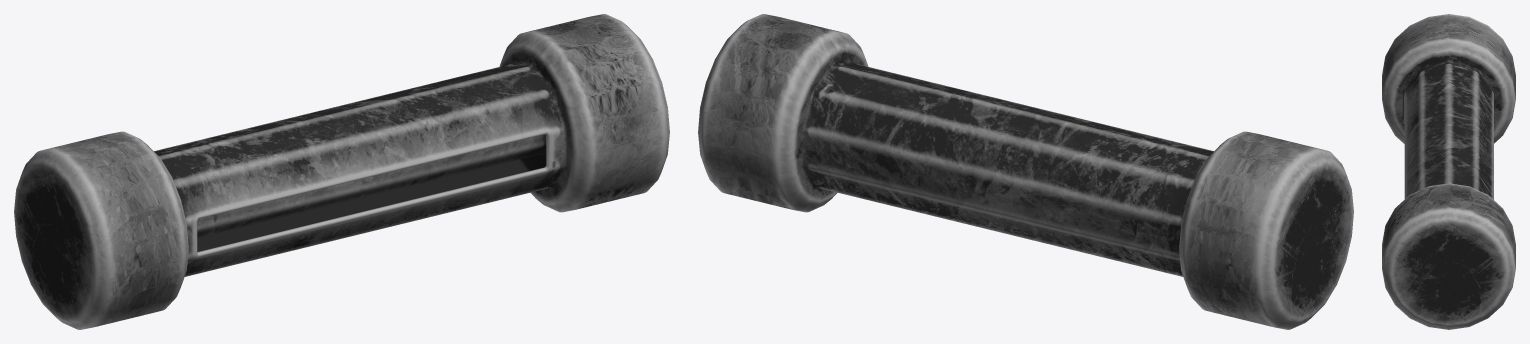
The model's file is Scroll.fbx.
The picture shows the model from 3 angles, left to right: view 1: azimuth 30°, elevation 25°; view 2: azimuth 150°, elevation 25°; view 3: azimuth 270°, elevation 25°; orthographic projection. The views are drawn at different scales.
Visible parts, largest first — view 1: Scroll 9 pos; view 2: Scroll 9 pos; view 3: Scroll 9 pos.
Boxes of the visible parts, left/top/right/bottom form: Scroll 9 pos: left=14, top=14, right=669, bottom=329; Scroll 9 pos: left=698, top=14, right=1353, bottom=329; Scroll 9 pos: left=1382, top=14, right=1515, bottom=329.
Bounding box in the file's own units: 1247 × 349 × 349.
